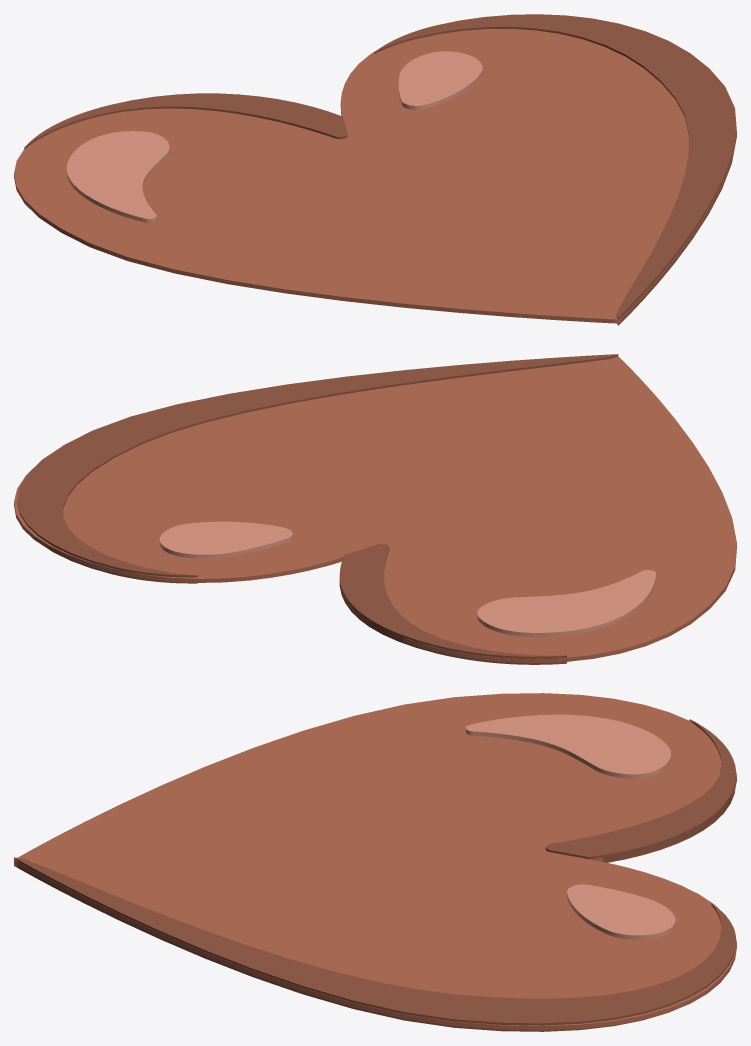
File: emoji_u1f90e.glb
The picture shows the model from 3 angles, top to bottom: view 1: azimuth 30°, elevation 25°; view 2: azimuth 150°, elevation 25°; view 3: azimuth 270°, elevation 25°; orthographic projection. The views are drawn at different scales.
Parts seen in each view (by area): view 1: emoji_u1f90e; view 2: emoji_u1f90e; view 3: emoji_u1f90e.
Part boxes in pixels (x1,y1,x2,y2): emoji_u1f90e: [14, 14, 736, 325]; emoji_u1f90e: [14, 354, 736, 664]; emoji_u1f90e: [14, 693, 736, 1031].
Size of the model in its own units: 0.0339 by 0.0006 by 0.0311.
